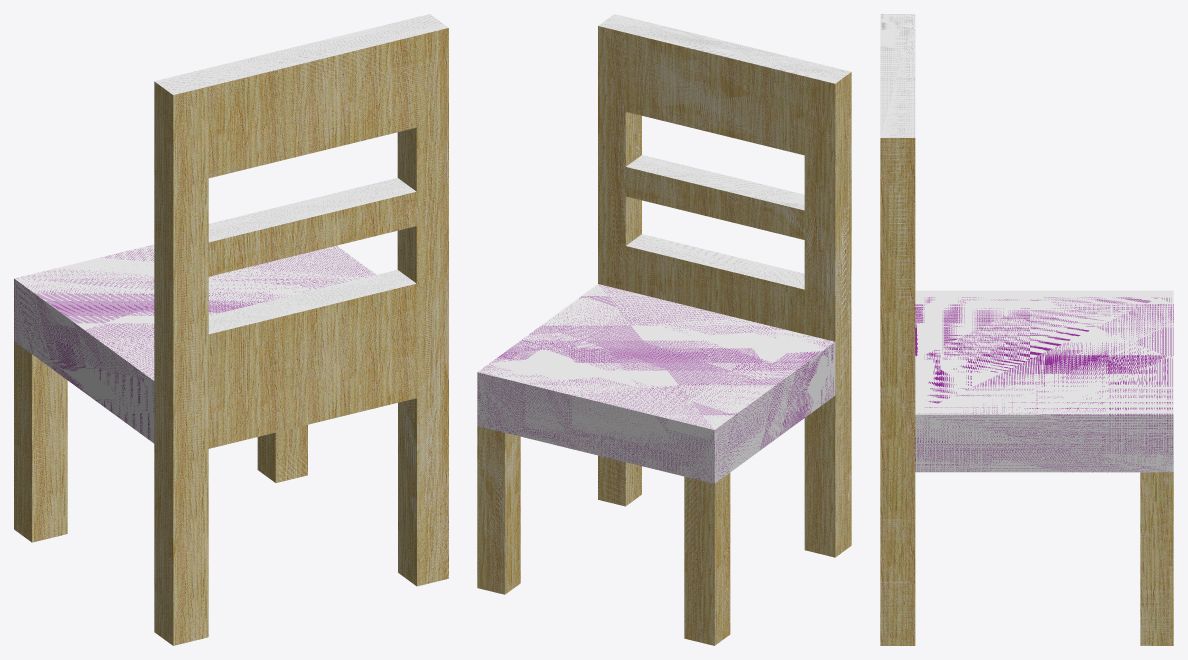
3 views of the same model, side by side, from view 1: azimuth 30°, elevation 25°; view 2: azimuth 150°, elevation 25°; view 3: azimuth 270°, elevation 25° (orthographic). The views are drawn at different scales.
Parts seen in each view (by area): view 1: mesh1_mesh1-geometry; view 2: mesh1_mesh1-geometry; view 3: mesh1_mesh1-geometry.
Boxes of the visible parts, <box> form: mesh1_mesh1-geometry: <box>14,14,448,645</box>; mesh1_mesh1-geometry: <box>477,14,851,645</box>; mesh1_mesh1-geometry: <box>880,14,1173,645</box>.
Size of the model in its own units: 0.421 by 0.8035 by 0.421.
